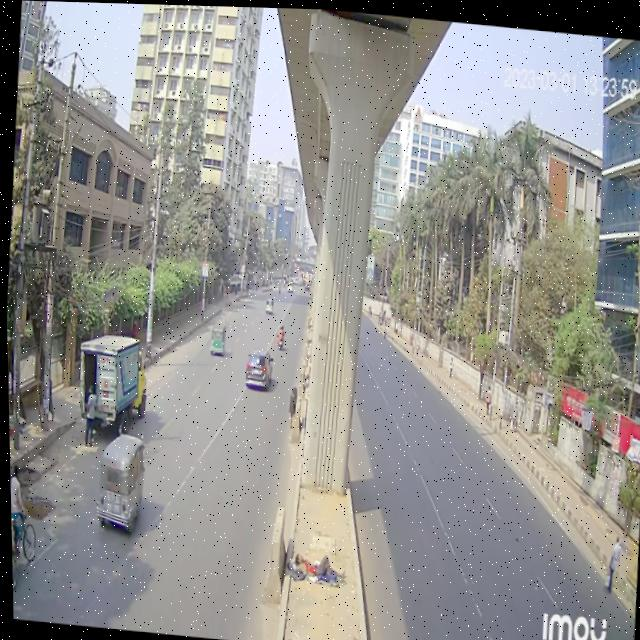cng: (90, 433, 155, 537), (207, 318, 227, 361), (263, 292, 276, 317)
